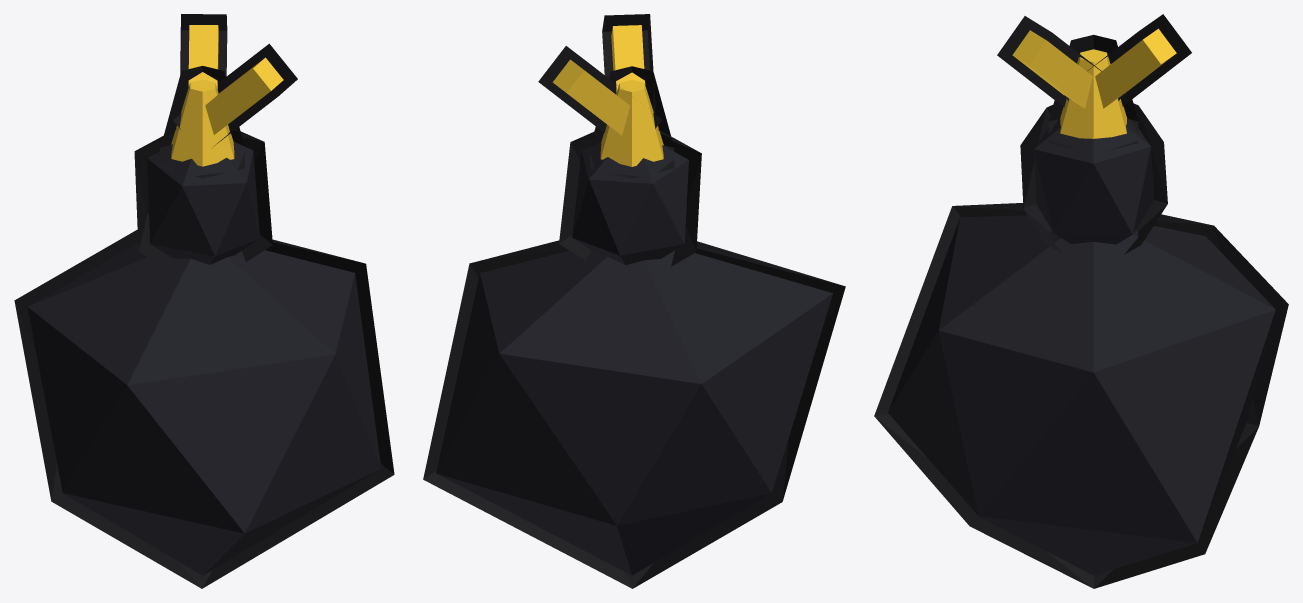
Rendered from Basura_Bolsa.fbx.
3 views of the same model, side by side, from view 1: azimuth 30°, elevation 25°; view 2: azimuth 150°, elevation 25°; view 3: azimuth 270°, elevation 25° (orthographic). The views are drawn at different scales.
Visible parts, largest first — view 1: Basura_Bolsa; view 2: Basura_Bolsa; view 3: Basura_Bolsa.
Part boxes in pixels (x1,y1,x2,y2): Basura_Bolsa: (14, 14, 394, 588); Basura_Bolsa: (423, 14, 845, 588); Basura_Bolsa: (874, 14, 1288, 588).
Size of the model in its own units: 0.5001 by 0.8338 by 0.5394.
2 materials, 1 textured.
